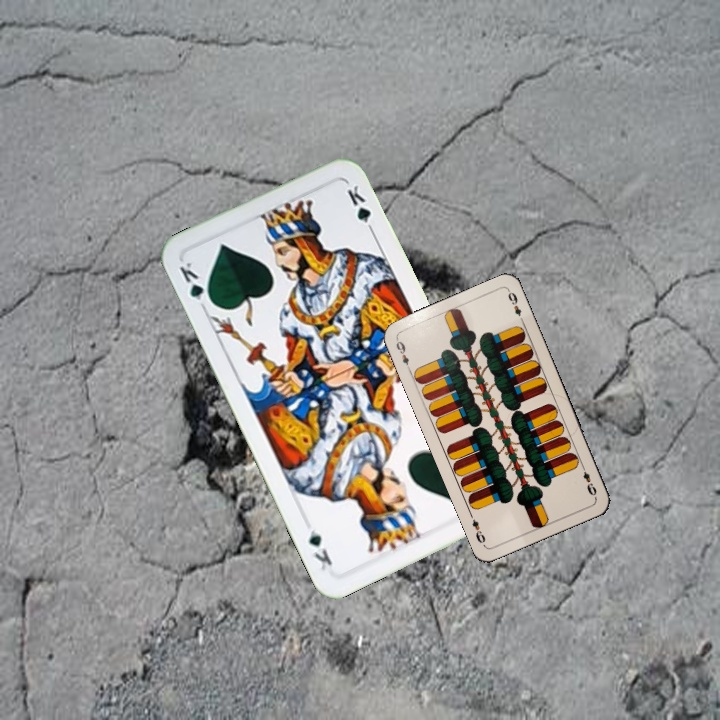E9: (392, 335, 413, 374), (577, 461, 599, 498)
GK: (175, 258, 216, 313)
